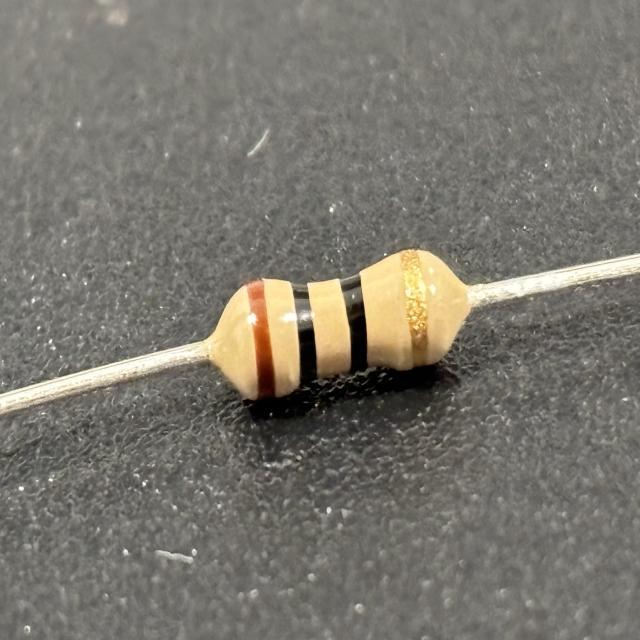resistor: (224, 240, 459, 408)
